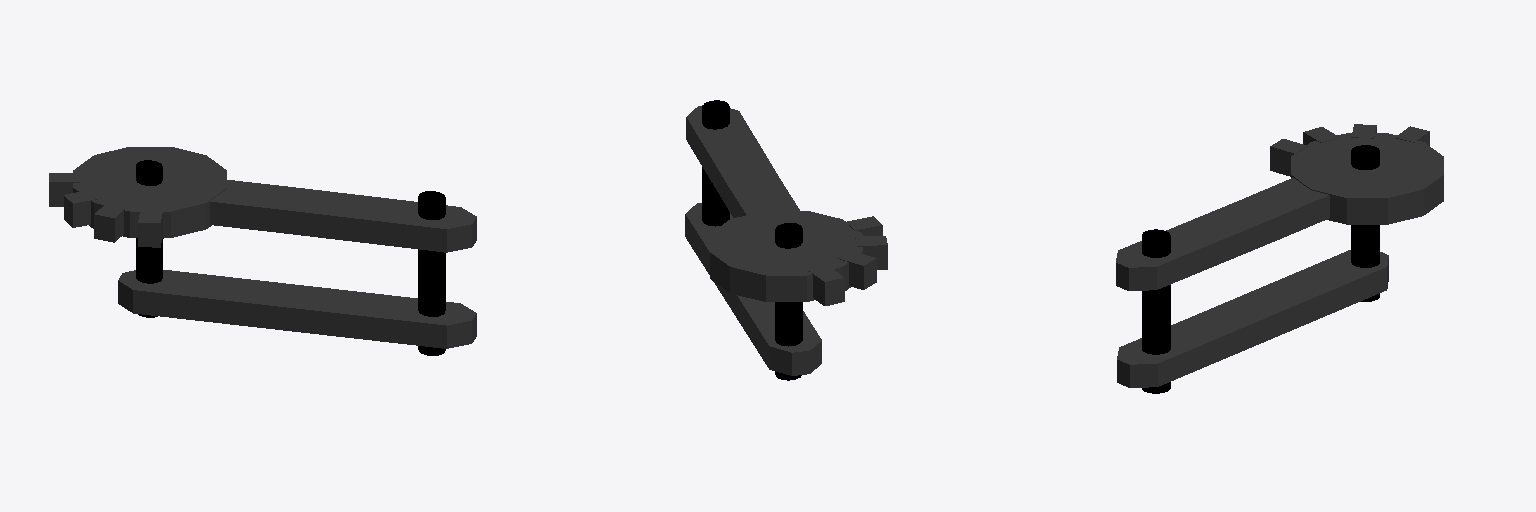
3 views of the same model, side by side, from view 1: azimuth 30°, elevation 25°; view 2: azimuth 150°, elevation 25°; view 3: azimuth 270°, elevation 25° (orthographic).
Parts seen in each view (by area): view 1: block00015, block00041, cylinder40, cylinder28, cylinder35, box[number redacted], box[number redacted], box[number redacted], box[number redacted]; view 2: cylinder40, block00041, block00015, cylinder35, cylinder28, box[number redacted], box[number redacted], box[number redacted]; view 3: block00015, block00041, cylinder40, cylinder28, cylinder35, box[number redacted].
Part boxes in pixels (left/top/right/bottom): block00015: left=118, top=270, right=476, bottom=348; block00041: left=210, top=180, right=476, bottom=252; cylinder40: left=73, top=147, right=226, bottom=237; cylinder28: left=418, top=191, right=445, bottom=355; cylinder35: left=136, top=160, right=162, bottom=317; box[number redacted]: left=94, top=203, right=126, bottom=242; box[number redacted]: left=64, top=190, right=100, bottom=227; box[number redacted]: left=138, top=210, right=162, bottom=247; box[number redacted]: left=49, top=173, right=79, bottom=206; cylinder40: left=710, top=211, right=862, bottom=301; block00041: left=686, top=105, right=799, bottom=217; block00015: left=685, top=203, right=821, bottom=375; cylinder35: left=775, top=223, right=802, bottom=380; cylinder28: left=702, top=100, right=729, bottom=226; box[number redacted]: left=809, top=266, right=844, bottom=305; box[number redacted]: left=838, top=251, right=876, bottom=289; box[number redacted]: left=855, top=236, right=887, bottom=269; block00015: left=1117, top=250, right=1388, bottom=387; block00041: left=1116, top=178, right=1329, bottom=290; cylinder40: left=1291, top=133, right=1443, bottom=224; cylinder28: left=1142, top=229, right=1170, bottom=393; cylinder35: left=1351, top=145, right=1379, bottom=301; box[number redacted]: left=1270, top=139, right=1307, bottom=176.
Bounding box in the file's own units: 0.1603 × 0.0805 × 0.1564.